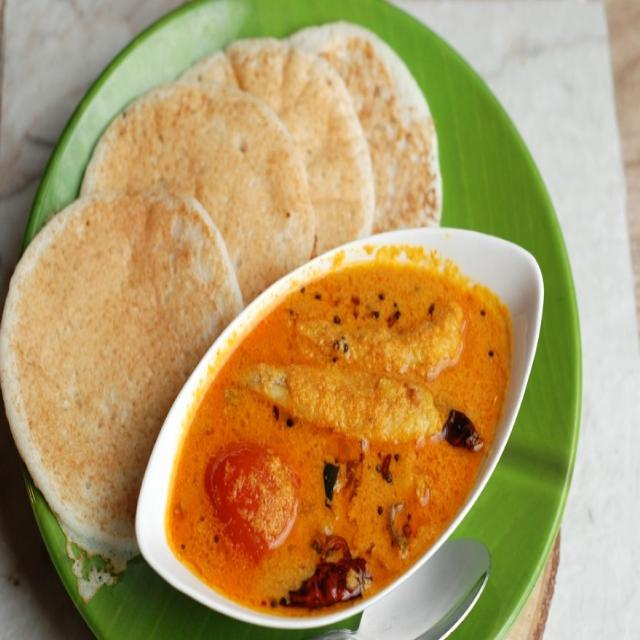DOSA: (0, 19, 442, 540)
FISH CURRY: (166, 264, 515, 614)
